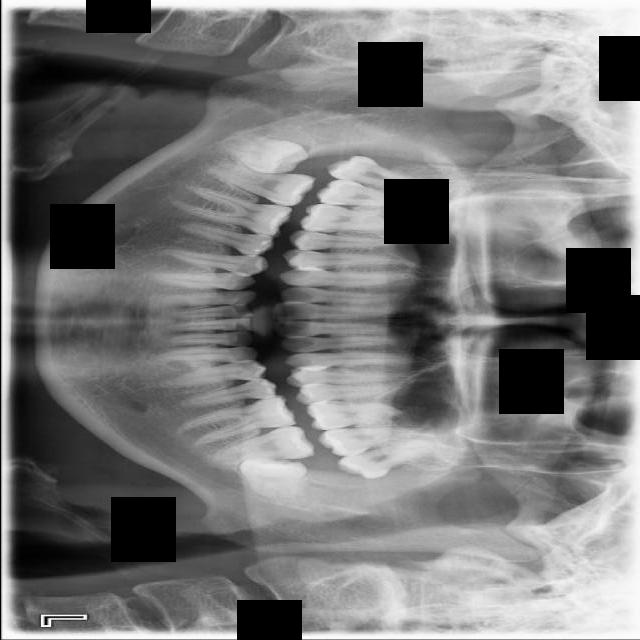3M ESPE Implant: (325, 150, 435, 192)
73: (80, 594, 94, 609)
BioHorizons Implant: (316, 424, 432, 457)
BioLife Implant: (333, 432, 447, 487)
Biomet 3i Implant: (233, 454, 308, 502)
Blue Sky Bio Implant: (204, 423, 316, 470)
Caries: (315, 178, 425, 208)
Implant: (210, 158, 317, 211)
Keystone Dental Implant: (215, 123, 310, 184)
